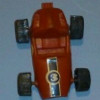rojo: (17, 4, 88, 98)
